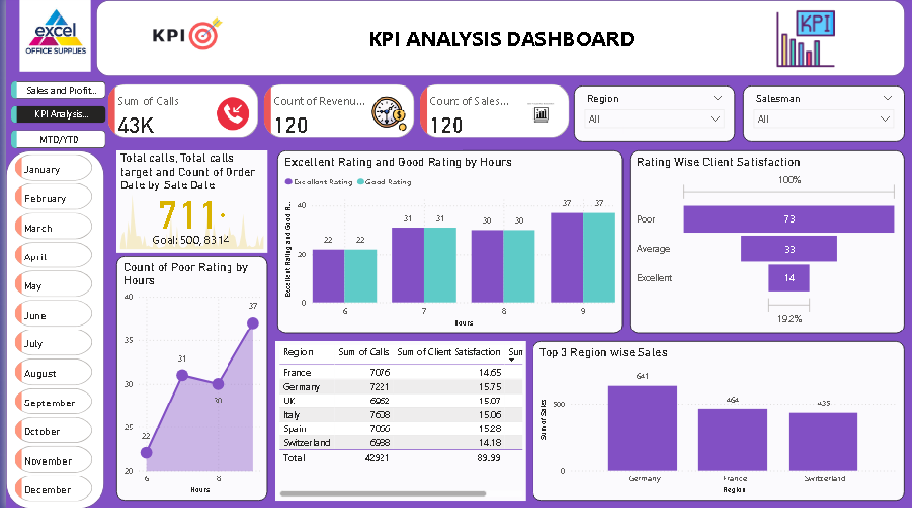

The dashboard page shown, as its layout file describes it:
{"tool":"powerbi","page":{"name":"KPI Analysis Dashboard","canvas":[1280,720],"ordinal":1},"visuals":[{"type":"image","box":[0,0,138.9,110.6],"z":0},{"type":"shape","box":[127.6,5.7,1140.9,106.3],"z":1000},{"type":"shape","box":[0,216.9,138.9,503.1],"z":2000},{"type":"pageNavigator","box":[7.1,119.1,134.6,97.8],"z":3000},{"type":"image","box":[1020.5,12.8,215.4,93.5],"z":4000},{"type":"image","box":[141.7,14.2,226.8,82.2],"z":5000},{"type":"advancedSlicerVisual","fields":{"Values":["KPI Data.Sale Date.Variation.Date Hierarchy.Month"]},"box":[7.1,216.9,120.5,503.1],"z":6000},{"type":"cardVisual","fields":{"Data":["Sum(KPI Data.Calls)","CountNonNull(KPI Data.Revenue Per Hour)","CountNonNull(KPI Data.Sales Per Hour)"]},"box":[138.9,117.6,663.3,87.9],"z":7000},{"type":"tableEx","fields":{"Values":["KPI Data.Region","Sum(KPI Data.Calls)","Sum(KPI Data.Client Satisfaction)","Sum(KPI Data.Poor)"]},"box":[379.8,484.7,354.3,223.9],"z":8000},{"type":"funnel","title":"Rating Wise Client Satisfaction","fields":{"Y":["CountNonNull(KPI Data.Client Satisfaction)"],"Category":["KPI Data.Rating_status"]},"box":[880.2,216.9,388.3,256.5],"z":9000},{"type":"areaChart","fields":{"Category":["KPI Data.Hours"],"Y":["CountNonNull(KPI Data.Poor)"]},"box":[155.9,365.7,212.6,343],"z":10000},{"type":"clusteredColumnChart","fields":{"Y":["CountNonNull(KPI Data.Excellent)","CountNonNull(KPI Data.Good)"],"Category":["KPI Data.Hours"]},"box":[382.7,216.9,487.6,256.5],"z":11000},{"type":"slicer","fields":{"Values":["KPI Data.Region"]},"box":[802.2,126.1,226.8,79.4],"z":12000},{"type":"slicer","fields":{"Values":["KPI Data.Salesman"]},"box":[1040.3,126.1,228.2,79.4],"z":13000},{"type":"kpi","fields":{"Goal":["KPI Data.Total calls target","CountNonNull(Sales_Revenue.Order Date.Variation.Date Hierarchy.Day)"],"Indicator":["KPI Data.Total calls"],"TrendLine":["KPI Data.Sale Date.Variation.Date Hierarchy.Year"]},"box":[155.9,216.9,212.6,143.1],"z":14000},{"type":"clusteredColumnChart","title":"Top 3  Region wise Sales","fields":{"Category":["KPI Data.Region"],"Y":["Sum(KPI Data.Sales)"]},"box":[744.1,484.7,524.4,223.9],"z":15000}]}

Visuals, with their boxes in screenshot pixels (x1, y1, x2, y2), scaled from the page's 1280x720 canvas onto the 912x508 screenshot:
image: 0,0,99,78
shape: 91,4,904,79
shape: 0,153,99,507
pageNavigator: 5,84,101,153
image: 727,9,881,75
image: 101,10,263,68
advancedSlicerVisual - KPI Data.Sale Date.Variation.Date Hierarchy.Month: 5,153,91,507
cardVisual - Sum(KPI Data.Calls) x CountNonNull(KPI Data.Revenue Per Hour): 99,83,572,145
tableEx - KPI Data.Region x Sum(KPI Data.Calls): 271,342,523,500
"Rating Wise Client Satisfaction" funnel: 627,153,904,334
areaChart - KPI Data.Hours x CountNonNull(KPI Data.Poor): 111,258,263,500
clusteredColumnChart - CountNonNull(KPI Data.Excellent) x CountNonNull(KPI Data.Good): 273,153,620,334
slicer - KPI Data.Region: 572,89,733,145
slicer - KPI Data.Salesman: 741,89,904,145
kpi - KPI Data.Total calls target x CountNonNull(Sales_Revenue.Order Date.Variation.Date Hierarchy.Day): 111,153,263,254
"Top 3  Region wise Sales" clusteredColumnChart: 530,342,904,500
